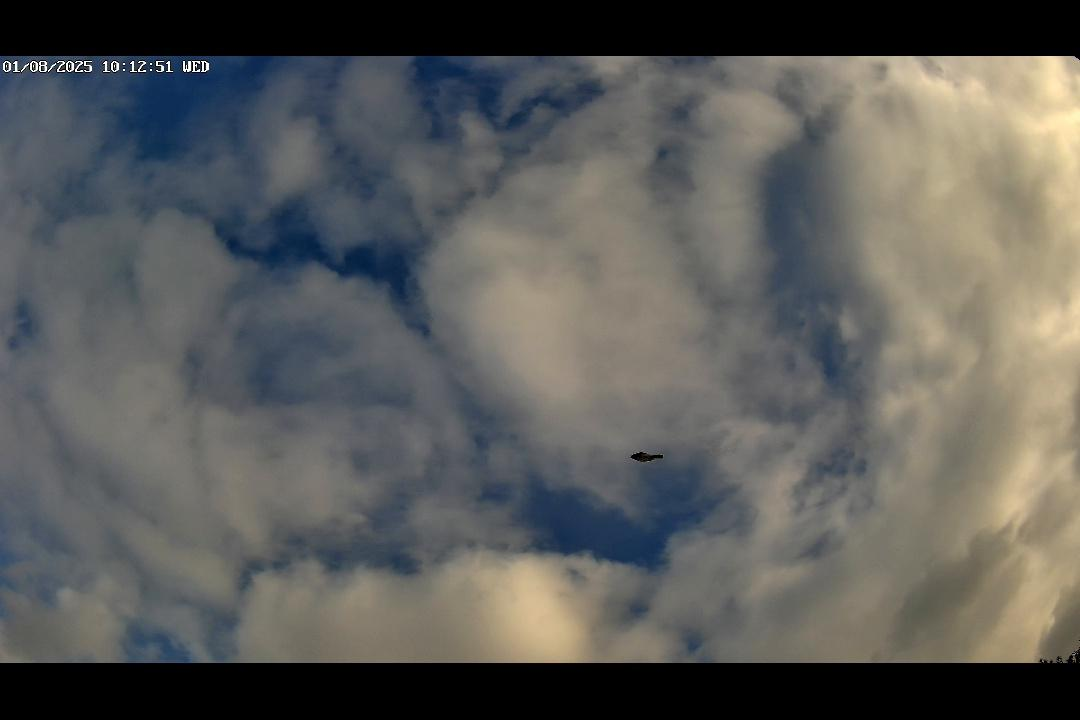WildLife: (620, 445, 675, 466)
